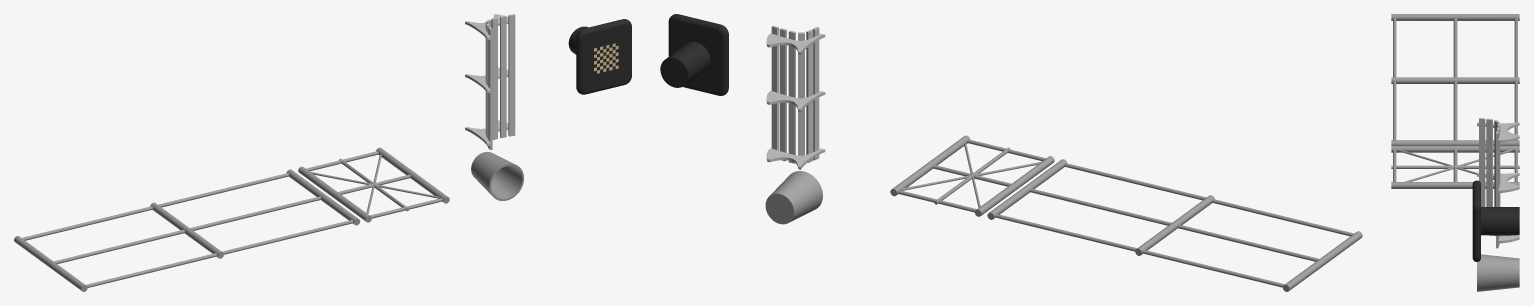
File: playground_assets v2.fbx
3 views of the same model, side by side, from view 1: azimuth 30°, elevation 25°; view 2: azimuth 150°, elevation 25°; view 3: azimuth 270°, elevation 25° (orthographic). The views are drawn at different scales.
Visible parts, largest first — view 1: Body1, Body6, Body10, Body4, Body9, Body11; view 2: Body6, Body1, Body10, Body4, Body9; view 3: Body1, Body6, Body4, Body10, Body9.
Part boxes in pixels (x1,y1,x2,y2): Body1: [14, 169, 360, 291]; Body6: [465, 14, 515, 150]; Body10: [568, 19, 631, 94]; Body4: [298, 147, 449, 222]; Body9: [471, 152, 523, 200]; Body11: [594, 43, 618, 73]; Body6: [766, 25, 825, 169]; Body1: [987, 159, 1362, 291]; Body10: [660, 14, 728, 95]; Body4: [890, 135, 1054, 216]; Body9: [765, 171, 822, 224]; Body1: [1391, 14, 1519, 145]; Body6: [1477, 118, 1519, 248]; Body4: [1391, 146, 1519, 188]; Body10: [1472, 180, 1519, 261]; Body9: [1477, 254, 1519, 291].
Bounding box in the file's own units: 764 × 213 × 150.
